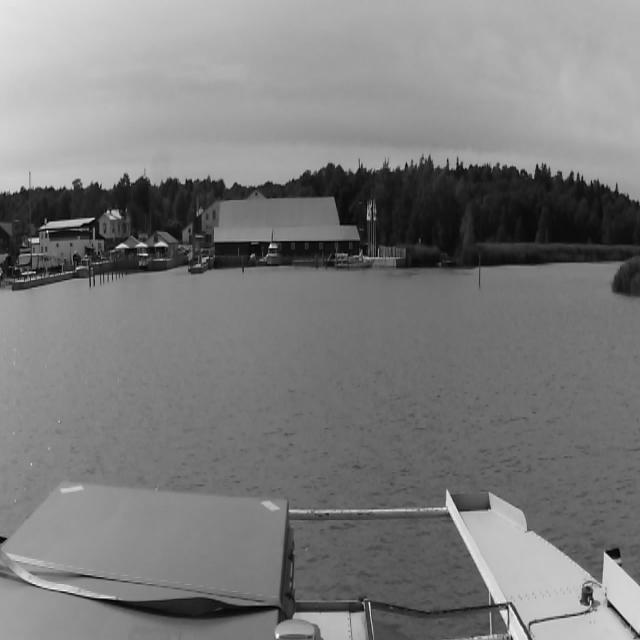buoy: (477, 253, 481, 290)
ship: (336, 198, 376, 268), (75, 252, 93, 278), (266, 239, 282, 267), (325, 255, 345, 267)
